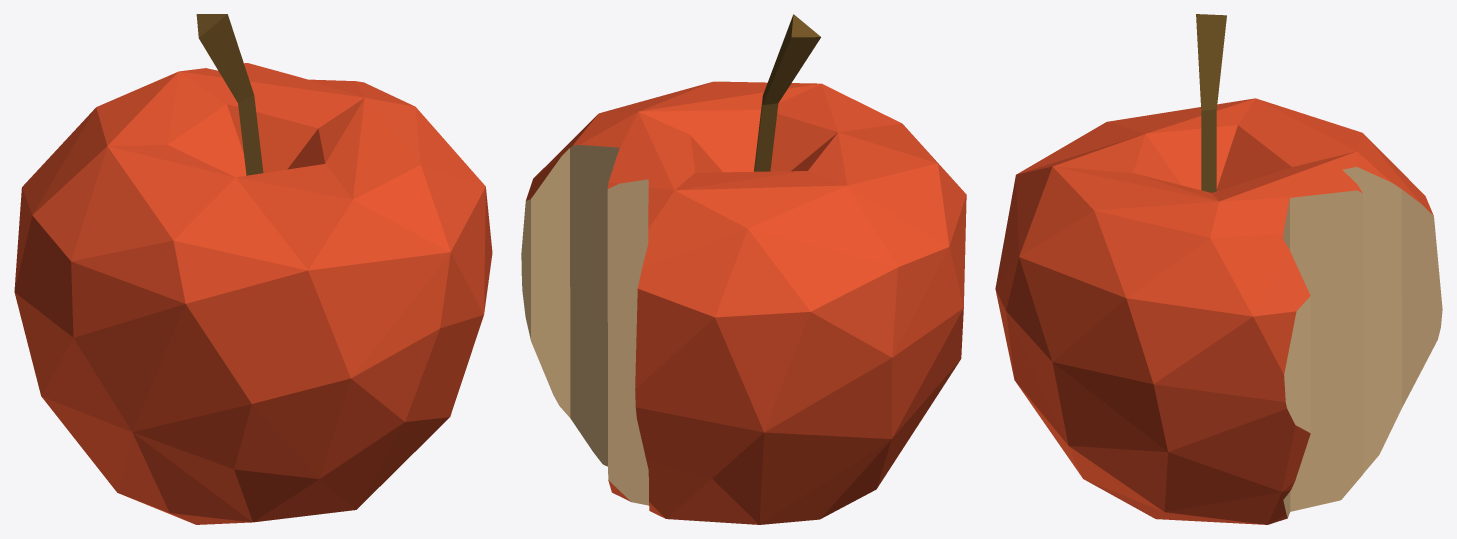
The model's file is LPFood_BittenApple.fbx.
3 views of the same model, side by side, from view 1: azimuth 30°, elevation 25°; view 2: azimuth 150°, elevation 25°; view 3: azimuth 270°, elevation 25° (orthographic). The views are drawn at different scales.
Parts seen in each view (by area): view 1: BittenApple; view 2: BittenApple; view 3: BittenApple.
Part boxes in pixels (left/top/right/bottom): BittenApple: left=14, top=14, right=492, bottom=524; BittenApple: left=521, top=14, right=966, bottom=524; BittenApple: left=995, top=14, right=1442, bottom=524.
Bounding box in the file's own units: 11.54 × 13.15 × 11.81.
